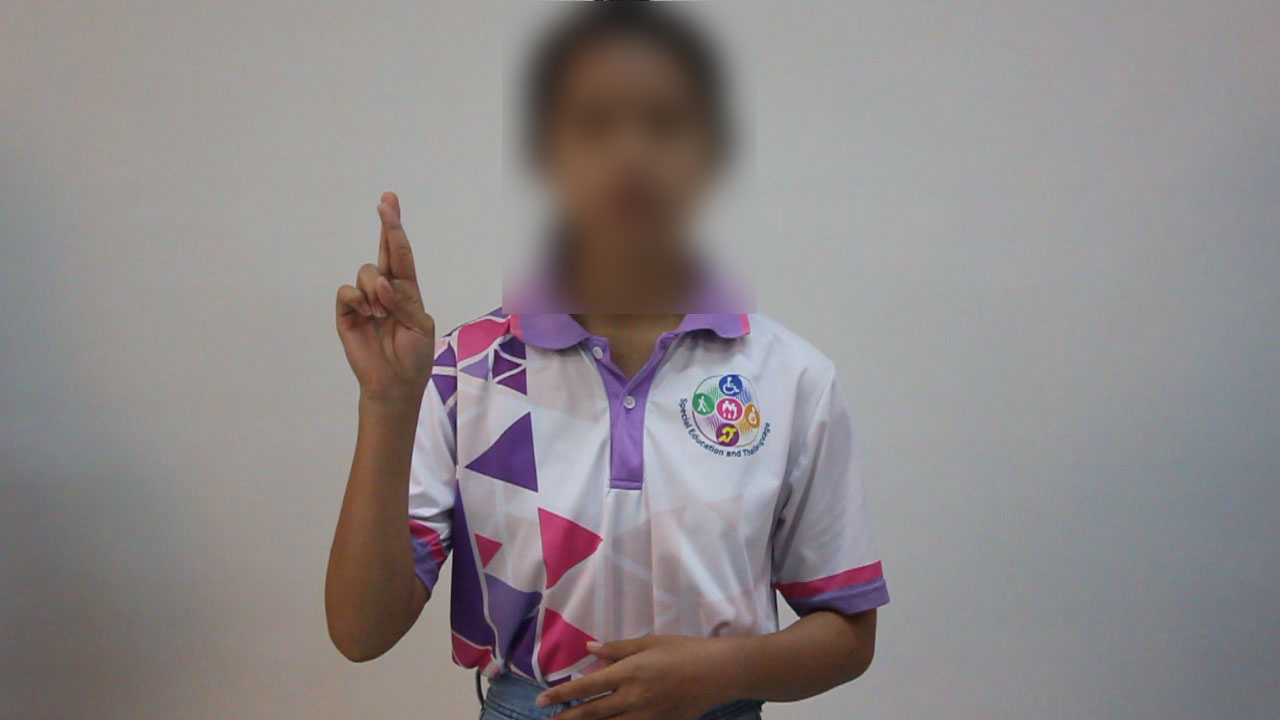rao: (319, 182, 459, 421)
